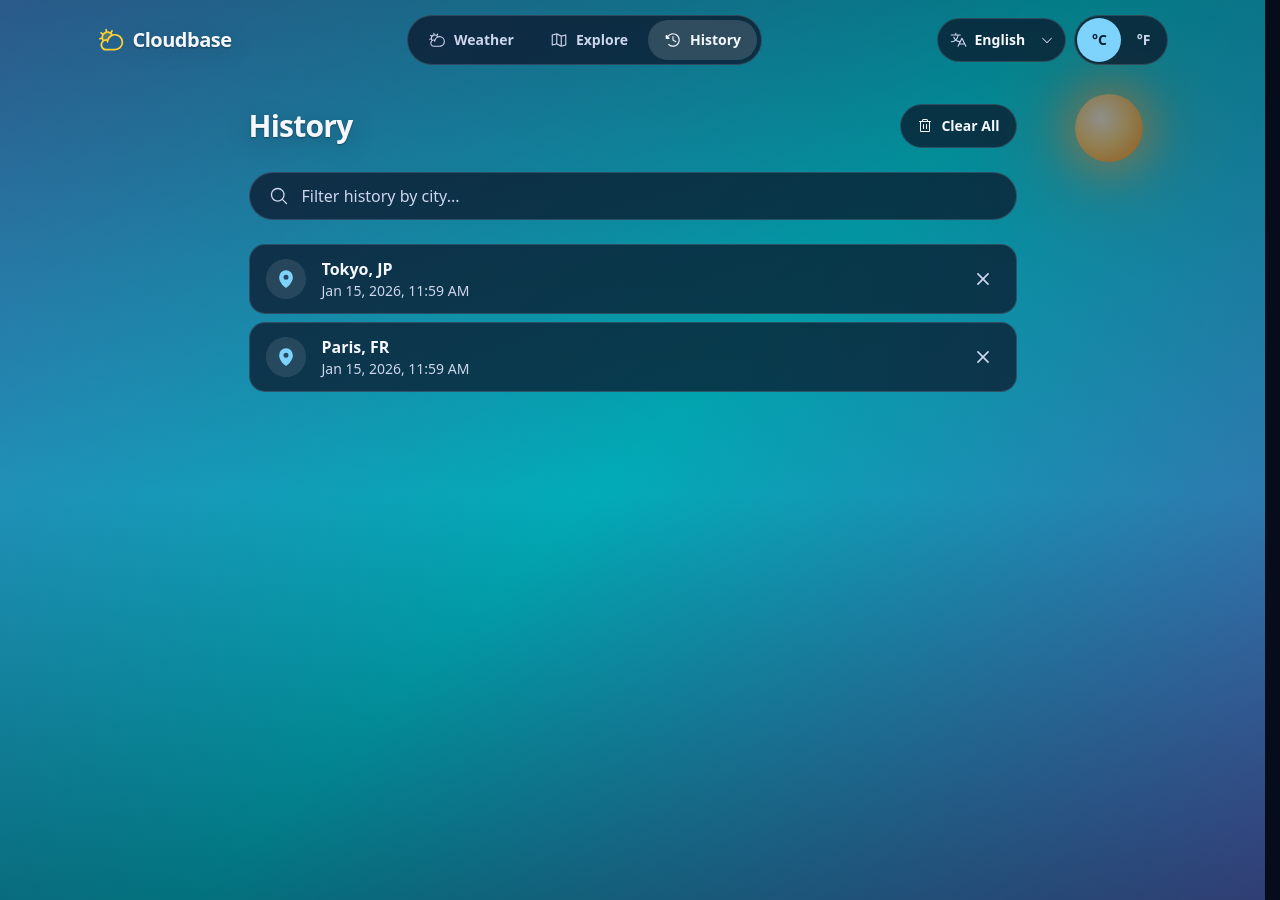
history › clears all history once the confirmation is accepted
Step 1. Click the button "Clear All" → (958, 126), box x1=900 y1=104 x2=1016 y2=148
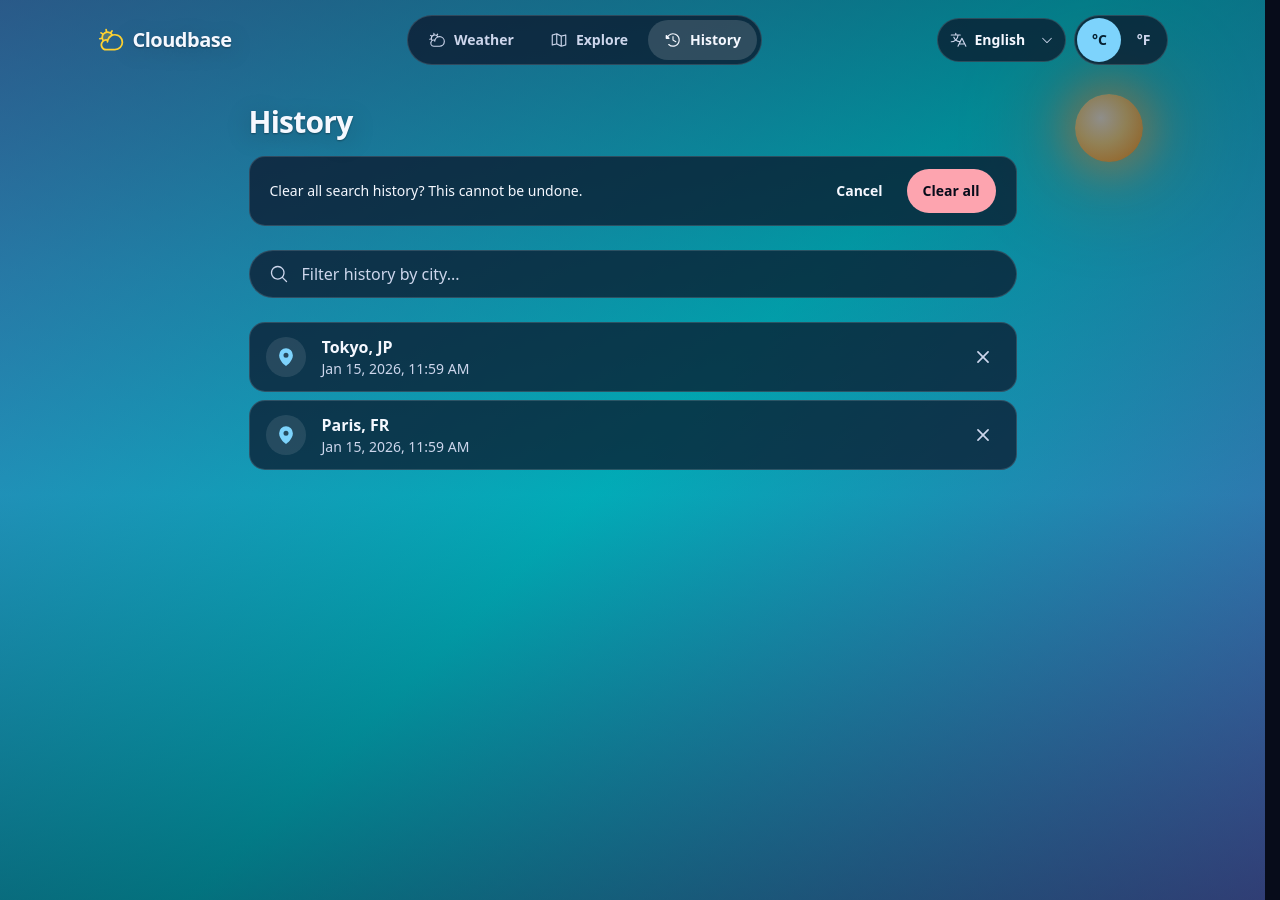
Step 2. Click the button "Clear all" → (951, 191), box x1=907 y1=169 x2=996 y2=213
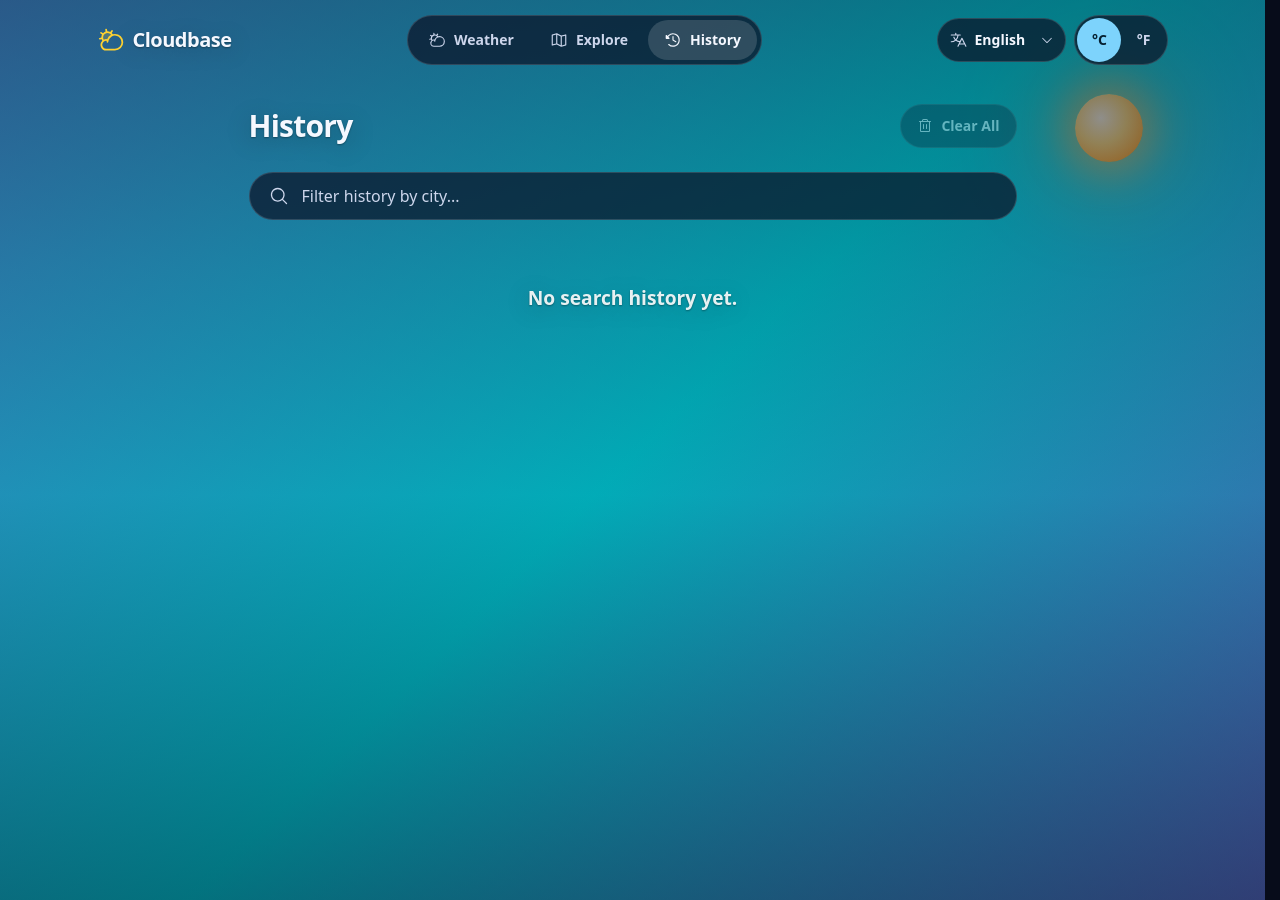
Now the text "No search history yet." is shown, box x1=528 y1=284 x2=737 y2=311
